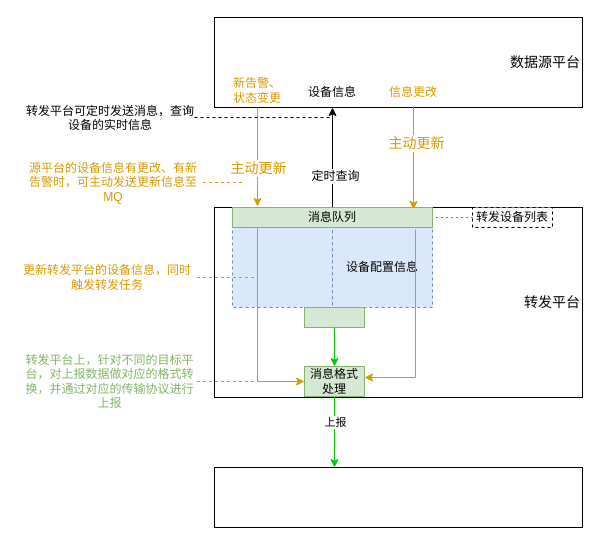
Some shapes in this 600 by 545 pixel diagram are drawn without their labels. Each missing label, with the centre of its shape:
"其他平台" goes at [398,497].
"定时任务" goes at [334,317].
"设备告警信息" goes at [282,267].
